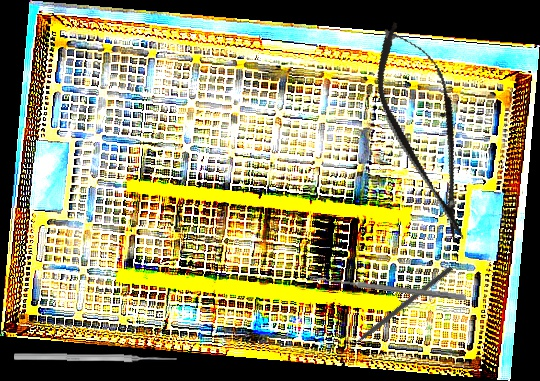Micro Scissor: (359, 12, 493, 251)
Pusher: (338, 264, 454, 357), (13, 351, 178, 365)
Surgical Spoon: (307, 274, 467, 301)
